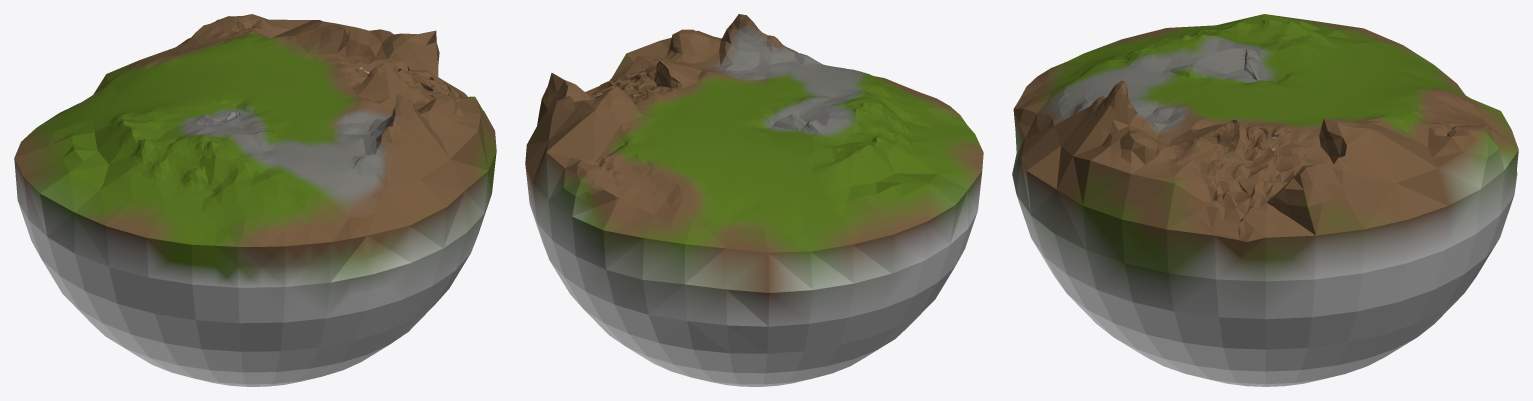
The model's file is The_New_World_Env.glb.
3 renders of one model, left to right at view 1: azimuth 30°, elevation 25°; view 2: azimuth 150°, elevation 25°; view 3: azimuth 270°, elevation 25°, orthographic. The views are drawn at different scales.
Visible parts, largest first — view 1: Sphere; view 2: Sphere; view 3: Sphere.
Part boxes in pixels (x1,y1,x2,y2): Sphere: (14, 14, 496, 386); Sphere: (525, 14, 983, 386); Sphere: (1012, 14, 1518, 386).
Bounding box in the file's own units: 274 × 187 × 266.
